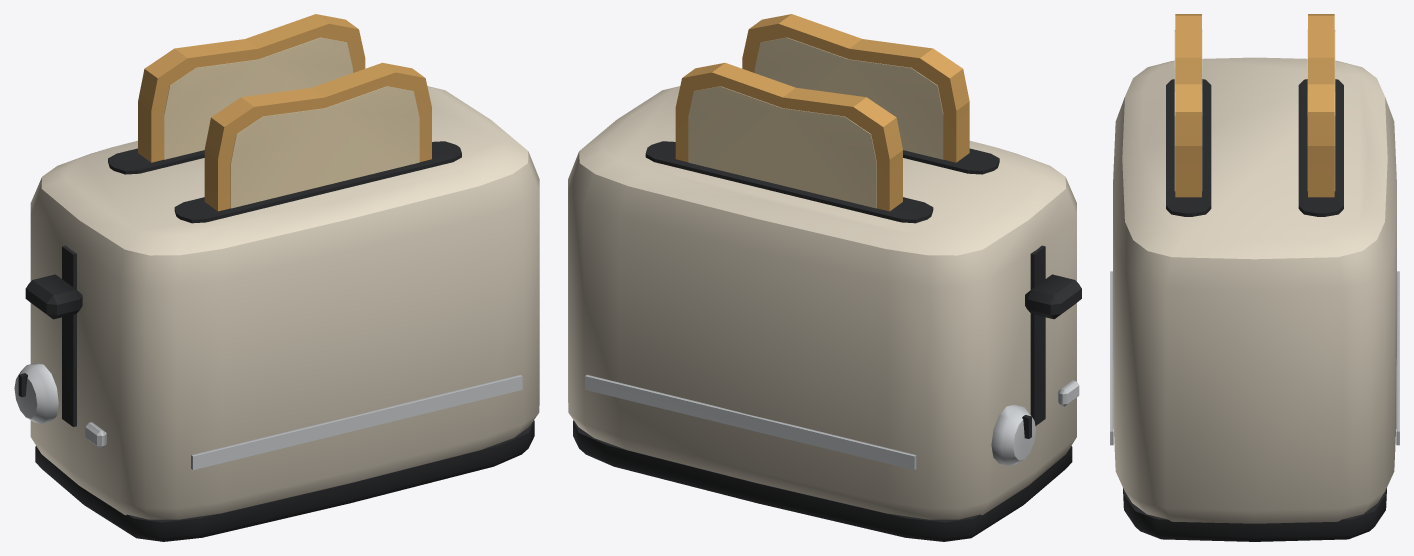
Rendered from toaster.glb.
The picture shows the model from 3 angles, left to right: view 1: azimuth 30°, elevation 25°; view 2: azimuth 150°, elevation 25°; view 3: azimuth 270°, elevation 25°; orthographic projection.
Parts seen in each view (by area): view 1: toaster; view 2: toaster; view 3: toaster.
Boxes of the visible parts, bbox=[...] form: toaster: bbox=[14, 14, 539, 541]; toaster: bbox=[568, 14, 1081, 541]; toaster: bbox=[1110, 14, 1399, 541].
Bounding box in the file's own units: 0.281 × 0.2295 × 0.153.
